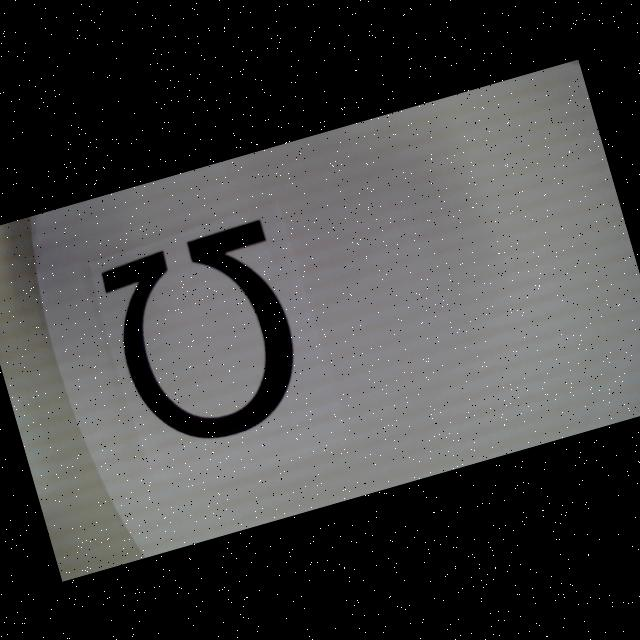OMEGA: (97, 218, 316, 458)
